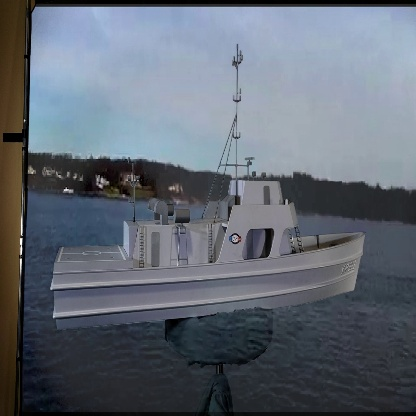YP689: (50, 43, 369, 333)
